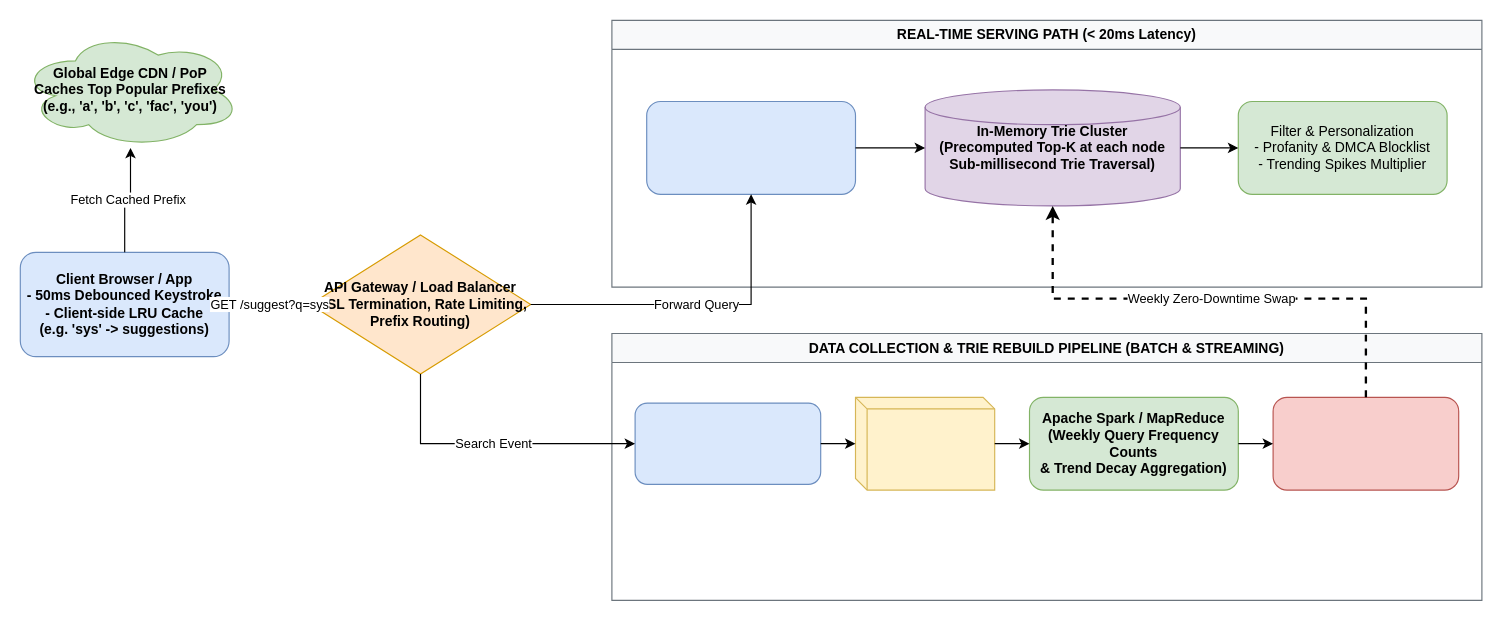
This 1502x621 diagram has some shape labels left out. The centre of each missing label's shape, as x and y in pixels:
"Kafka Logs Topic" belongs at point (924, 443).
"Search Log Service (Appends User Search Queries)" belongs at point (727, 443).
"Suggestion Service (Queries In-Memory Shards by Hash of Prefix)" belongs at point (750, 147).
"Trie Builder Worker Compiles Static Trie Snapshots Uploaded to S3 and Swapped" belongs at point (1365, 443).
